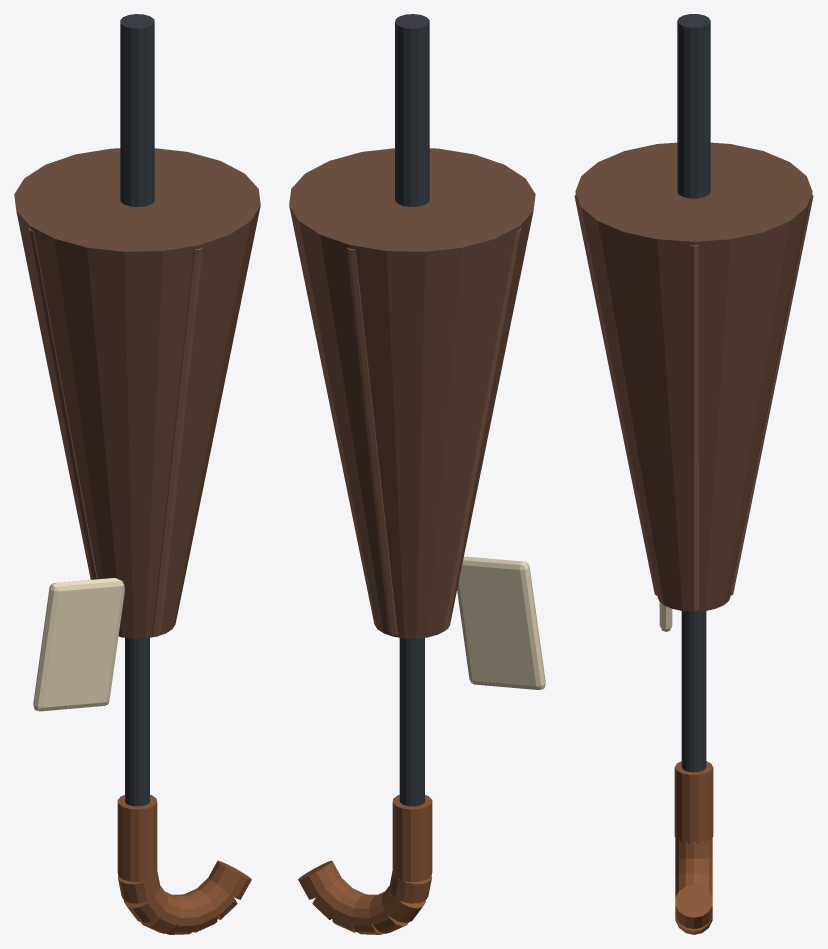
File: umbrella-wood-v1-Dtaolohu.glb
3 views of the same model, side by side, from view 1: azimuth 30°, elevation 25°; view 2: azimuth 150°, elevation 25°; view 3: azimuth 270°, elevation 25° (orthographic). The views are drawn at different scales.
Parts seen in each view (by area): view 1: Closed brown canopy, Maple Junction repair tag, Top ferrule, Central shaft, Fold seam 4, Wood hook 1, Fold seam 3, Wood hook 8, Wood hook 2, Wood hook 3, Wood hook 7, Wood hook 6 (+2 smaller); view 2: Closed brown canopy, Maple Junction repair tag, Top ferrule, Central shaft, Fold seam 2, Wood hook 1, Fold seam 3, Wood hook 8, Wood hook 2, Wood hook 3, Wood hook 7, Wood hook 6 (+2 smaller); view 3: Closed brown canopy, Top ferrule, Central shaft, Fold seam 1, Wood hook 1, Wood hook 8, Fold seam 2, Fold seam 4, Wood hook 2, Wood hook 3, Wood hook 4.
Part boxes in pixels (bbox=[...]): Closed brown canopy: bbox=[14, 148, 260, 638]; Maple Junction repair tag: bbox=[33, 578, 124, 711]; Top ferrule: bbox=[120, 14, 154, 206]; Central shaft: bbox=[125, 638, 149, 806]; Fold seam 4: bbox=[152, 247, 202, 635]; Wood hook 1: bbox=[117, 795, 157, 882]; Fold seam 3: bbox=[28, 228, 97, 579]; Wood hook 8: bbox=[208, 860, 251, 899]; Wood hook 2: bbox=[118, 872, 160, 903]; Wood hook 3: bbox=[124, 886, 167, 922]; Wood hook 7: bbox=[197, 878, 237, 919]; Wood hook 6: bbox=[184, 888, 217, 932]; Closed brown canopy: bbox=[289, 148, 535, 638]; Maple Junction repair tag: bbox=[457, 556, 545, 689]; Top ferrule: bbox=[395, 14, 429, 206]; Central shaft: bbox=[399, 638, 424, 806]; Fold seam 2: bbox=[347, 247, 397, 635]; Wood hook 1: bbox=[392, 795, 432, 882]; Fold seam 3: bbox=[443, 228, 521, 629]; Wood hook 8: bbox=[298, 860, 341, 899]; Wood hook 2: bbox=[389, 871, 431, 903]; Wood hook 3: bbox=[382, 886, 425, 922]; Wood hook 7: bbox=[312, 878, 352, 919]; Wood hook 6: bbox=[332, 888, 365, 932]; Closed brown canopy: bbox=[575, 142, 812, 611]; Top ferrule: bbox=[677, 14, 710, 198]; Central shaft: bbox=[681, 611, 706, 772]; Fold seam 1: bbox=[689, 245, 698, 610]; Wood hook 1: bbox=[674, 761, 713, 844]; Wood hook 8: bbox=[675, 885, 712, 928]; Fold seam 2: bbox=[730, 194, 813, 595]; Fold seam 4: bbox=[574, 194, 657, 595]; Wood hook 2: bbox=[675, 837, 712, 858]; Wood hook 3: bbox=[675, 858, 712, 877]; Wood hook 4: bbox=[675, 872, 712, 894].
Bounding box in the file's own units: 0.7279 × 2.79 × 0.6854.
